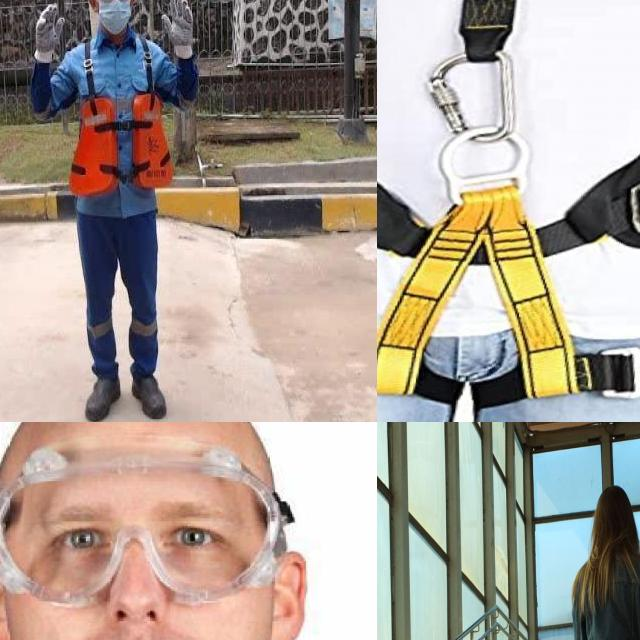Harness: (377, 0, 640, 406)
boots: (129, 368, 169, 422), (85, 370, 122, 422)
face_nomask: (38, 516, 245, 640)
glasses: (0, 434, 286, 611)
head_nohelmet: (3, 422, 257, 463)
person: (7, 0, 235, 422)
vest: (68, 98, 173, 194)
